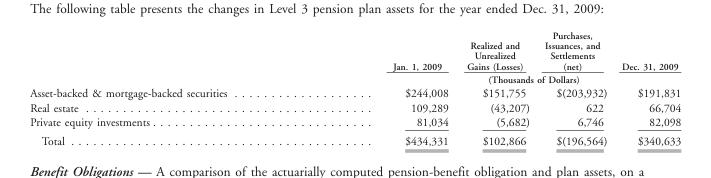table: (29, 29, 680, 147)
table column: (29, 29, 309, 147), (309, 29, 456, 147), (456, 29, 536, 147), (536, 29, 613, 147), (613, 29, 680, 147)
table column header: (29, 29, 680, 85)
table row: (29, 29, 680, 72), (29, 114, 680, 131), (29, 131, 680, 147), (29, 85, 680, 100), (29, 100, 680, 114), (29, 72, 680, 85)
table spanning cell: (309, 72, 680, 85)
